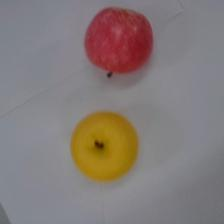red: (82, 4, 155, 80)
yellow: (69, 110, 140, 182)
